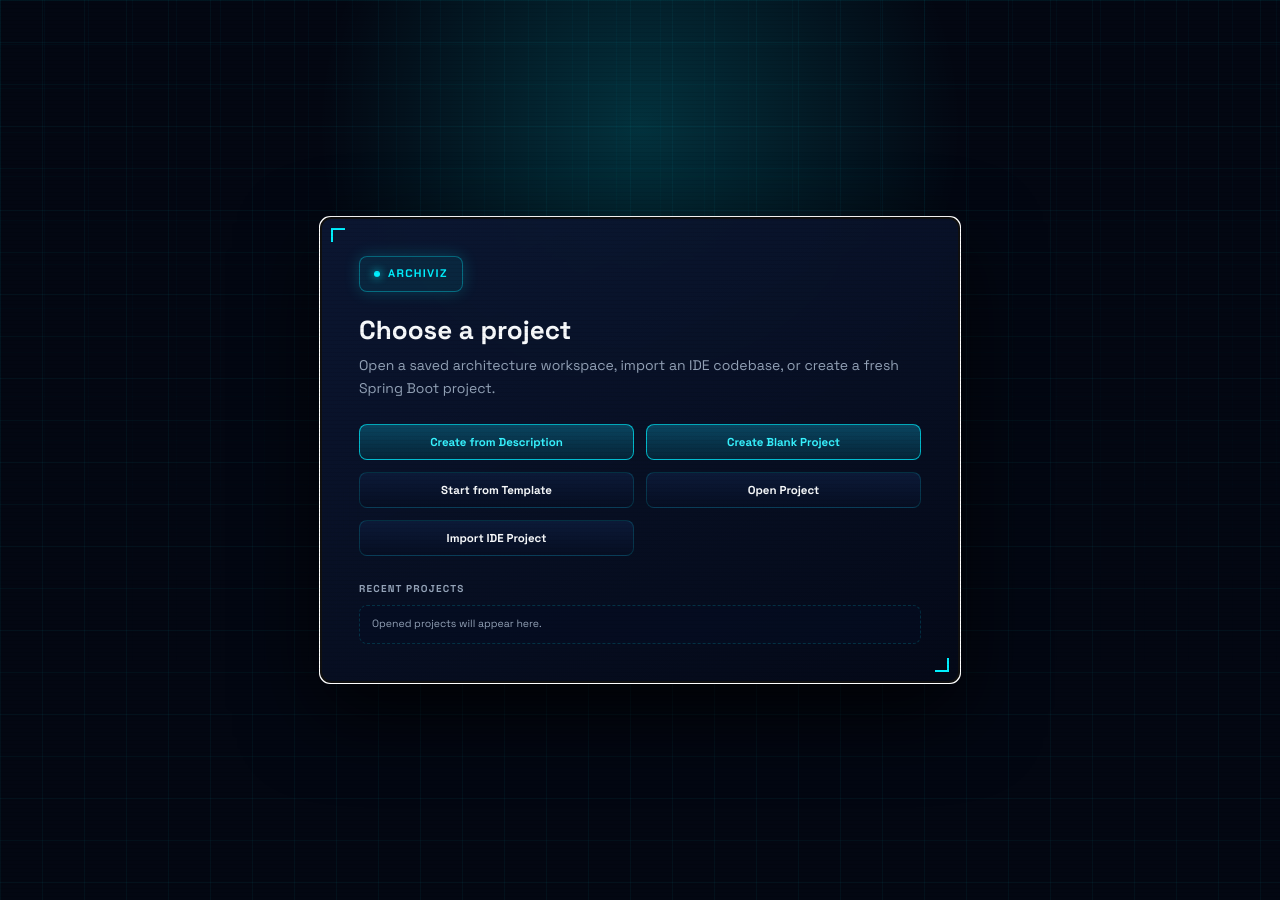
Test: Milestone 1 golden-path shell › starts from a description and exposes Design, Build, Code, and Ship workspaces
Click the button "Create from Description" at (496, 442), box [359,424,634,460]
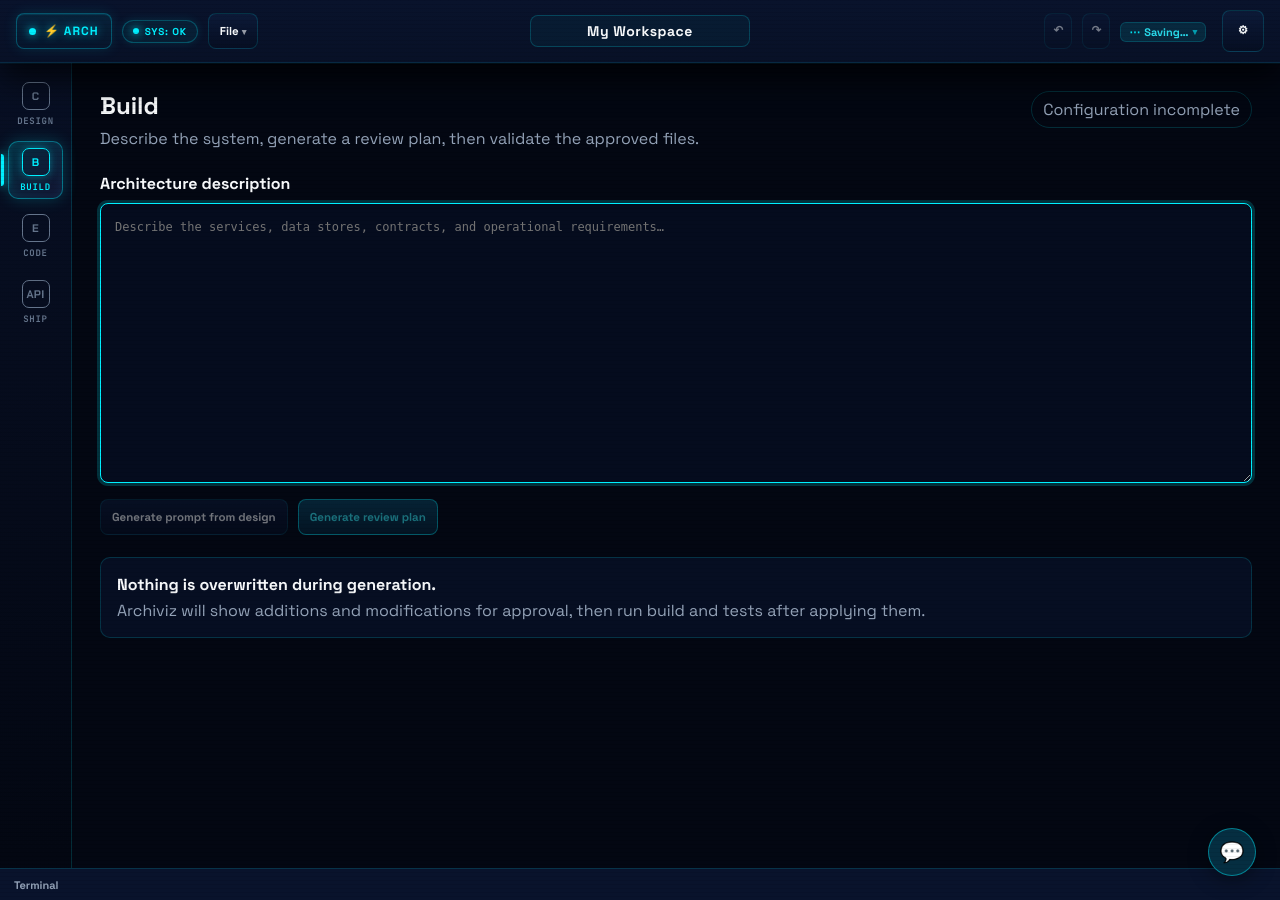
Check: the button with aria-label "Canvas" shows "Design", box [8,75,63,133]
Check: the heading "Build" is shown, box [100,91,159,122]
